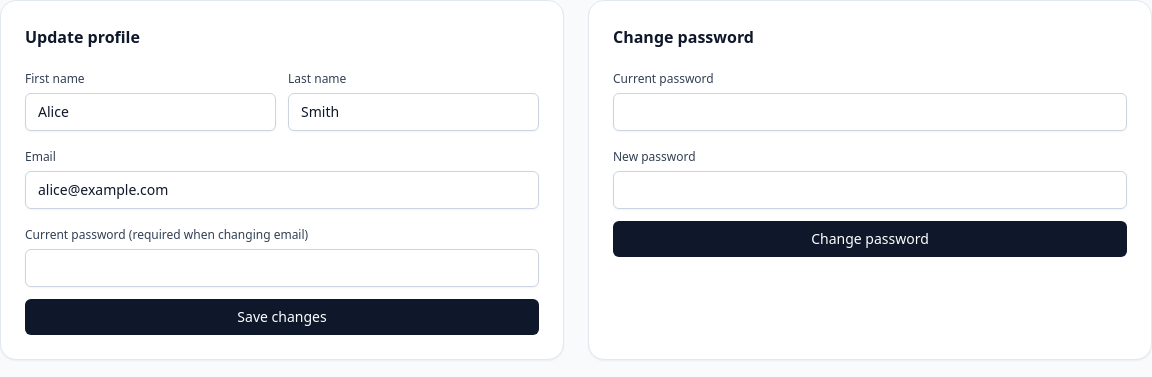
Test: ProfileSettingsPage › prefills profile form and submits updates
This screenshot has width=1152, height=377.
Check: the field labelled "Last name" holds "Smith", box [288,93,539,131]
Check: the field labelled "Email" holds "alice@example.com", box [25,171,539,209]
Replace the text in the field labelled "First name" with "Alicia" at point(150, 112), box [25,93,276,131]
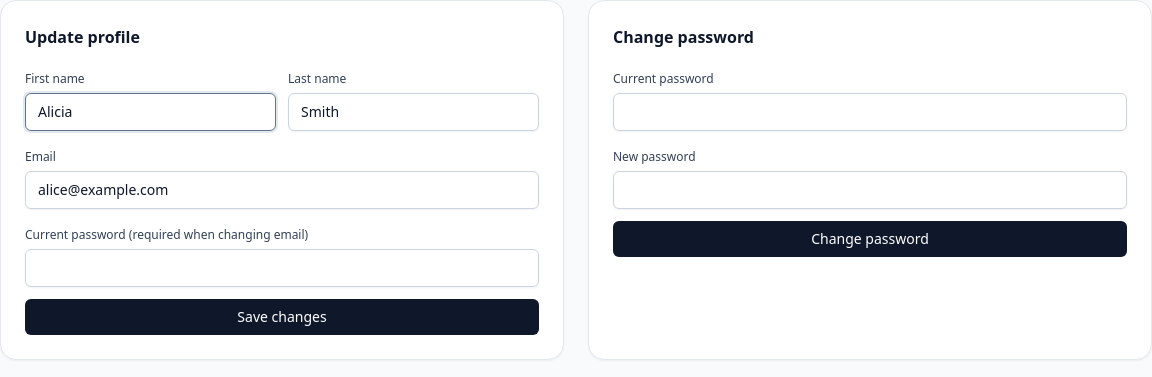
Click the button "Save changes" at point(282, 317), box [25,299,539,335]
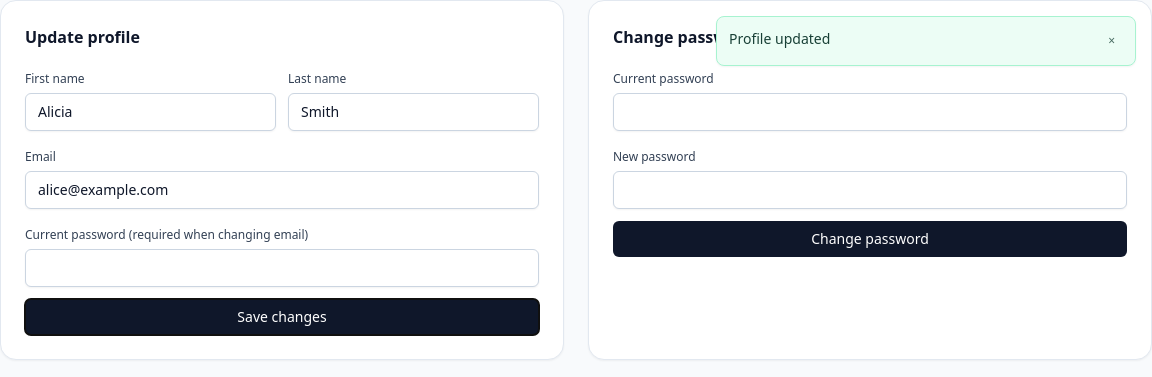
Check: the text "Profile updated" is shown, box [729,29,830,48]
